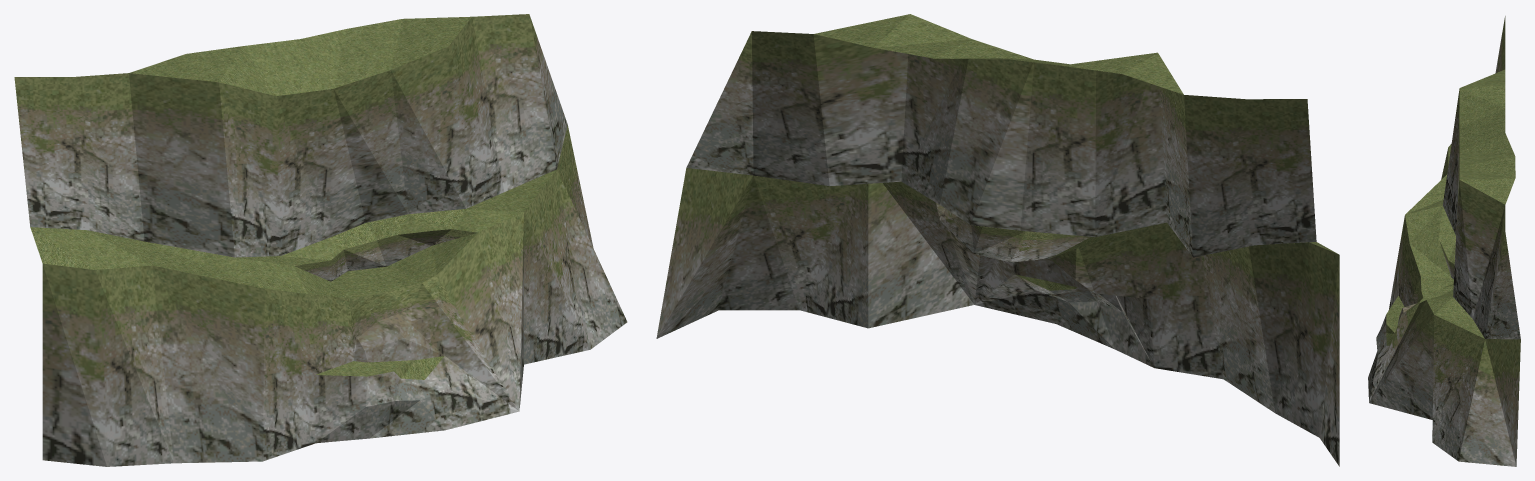
Rendered from n_bit_14.obj.
The picture shows the model from 3 angles, left to right: view 1: azimuth 30°, elevation 25°; view 2: azimuth 150°, elevation 25°; view 3: azimuth 270°, elevation 25°; orthographic projection. The views are drawn at different scales.
Parts seen in each view (by area): view 1: n_bit_14; view 2: n_bit_14; view 3: n_bit_14.
Part boxes in pixels (x1,y1,x2,y2): n_bit_14: (14, 14, 627, 466); n_bit_14: (656, 14, 1339, 466); n_bit_14: (1368, 16, 1520, 466).
Size of the model in its own units: 184 by 107 by 58.84.
2 materials, 2 textured.
